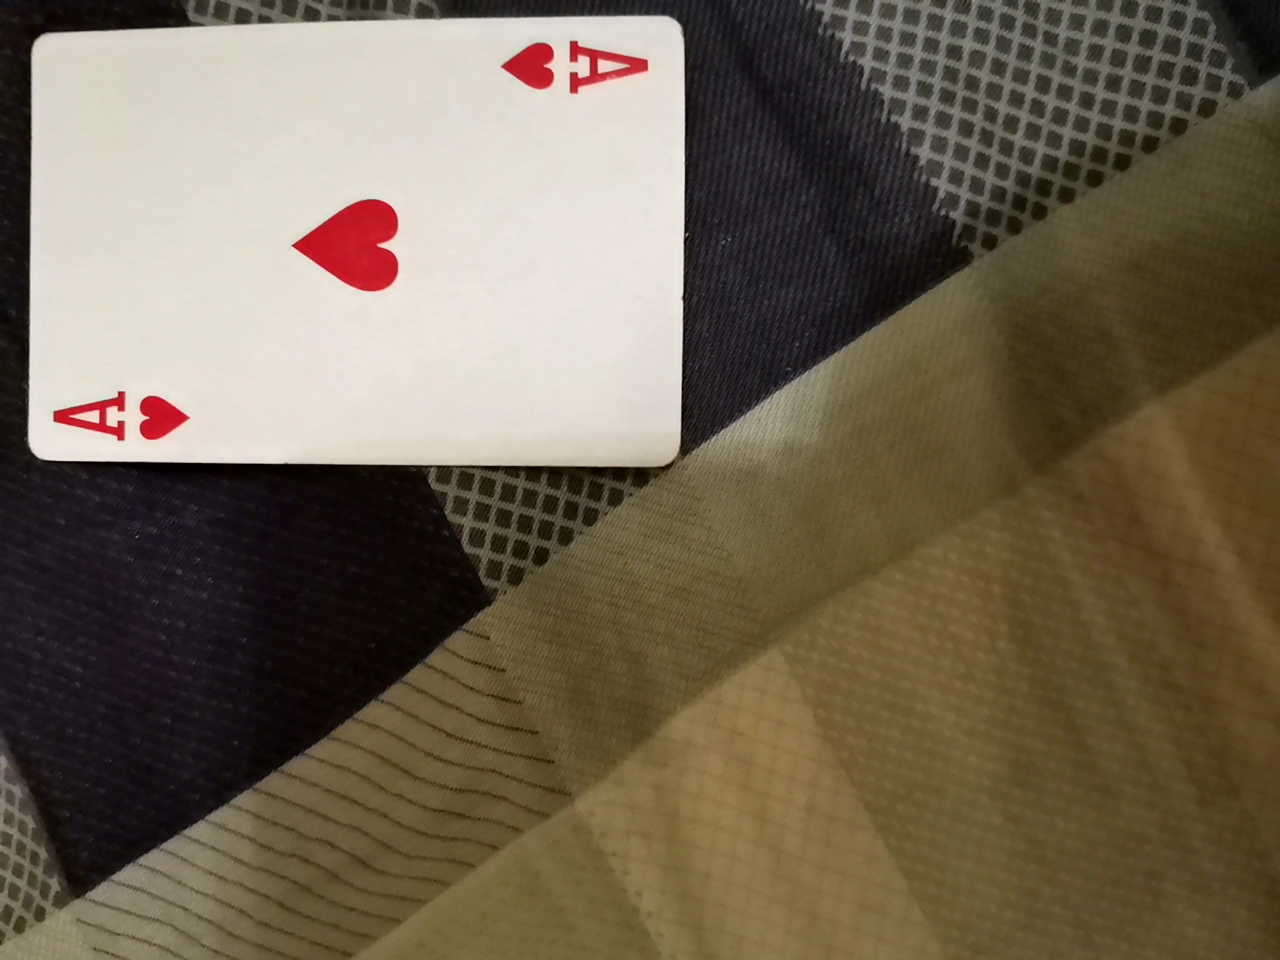hx a: (21, 6, 702, 464)
